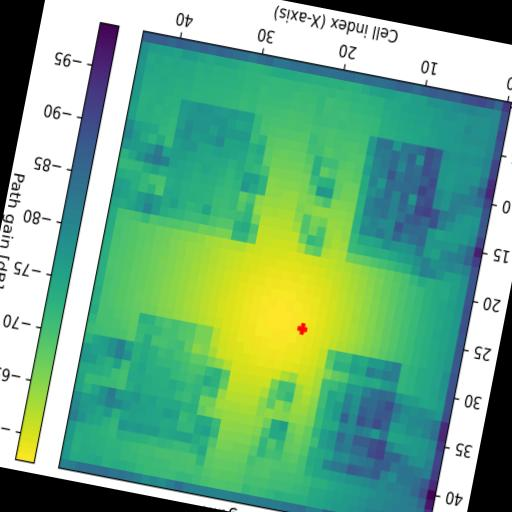Concrete: (116, 313, 214, 443)
Glass: (306, 348, 402, 481)
Metal: (158, 99, 256, 230)
Wood: (345, 137, 443, 276)
